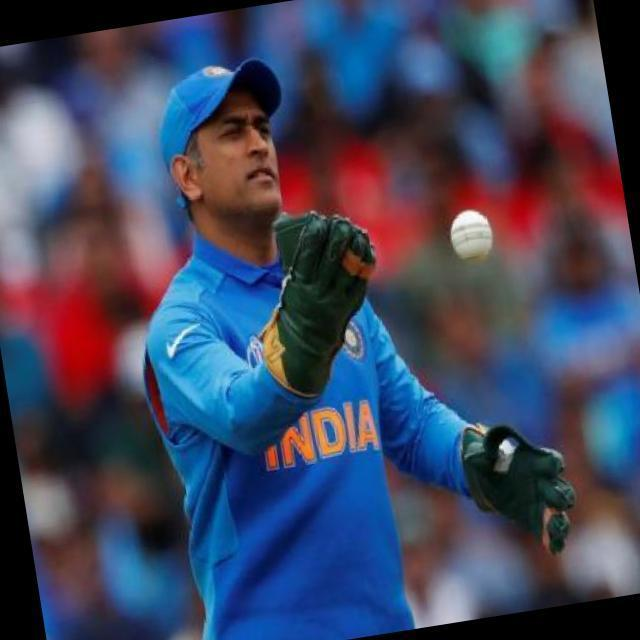-: (429, 163, 530, 308)
